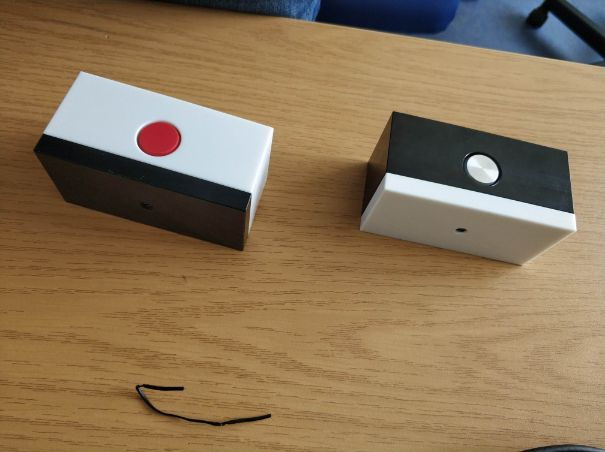black+white+red: (31, 68, 278, 255)
white+black+silver: (358, 110, 581, 273)
